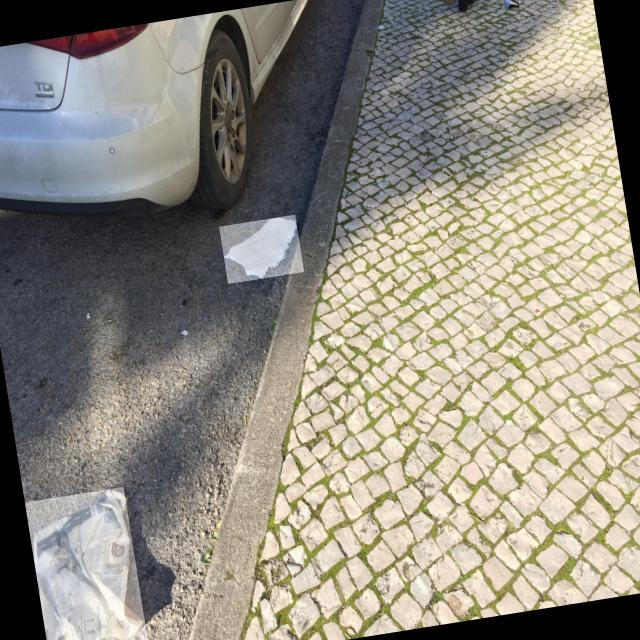Paper bag: (34, 490, 143, 640)
Styrofoam piece: (224, 218, 297, 279), (181, 330, 189, 335)
Unlabeled litter: (505, 0, 519, 9)
